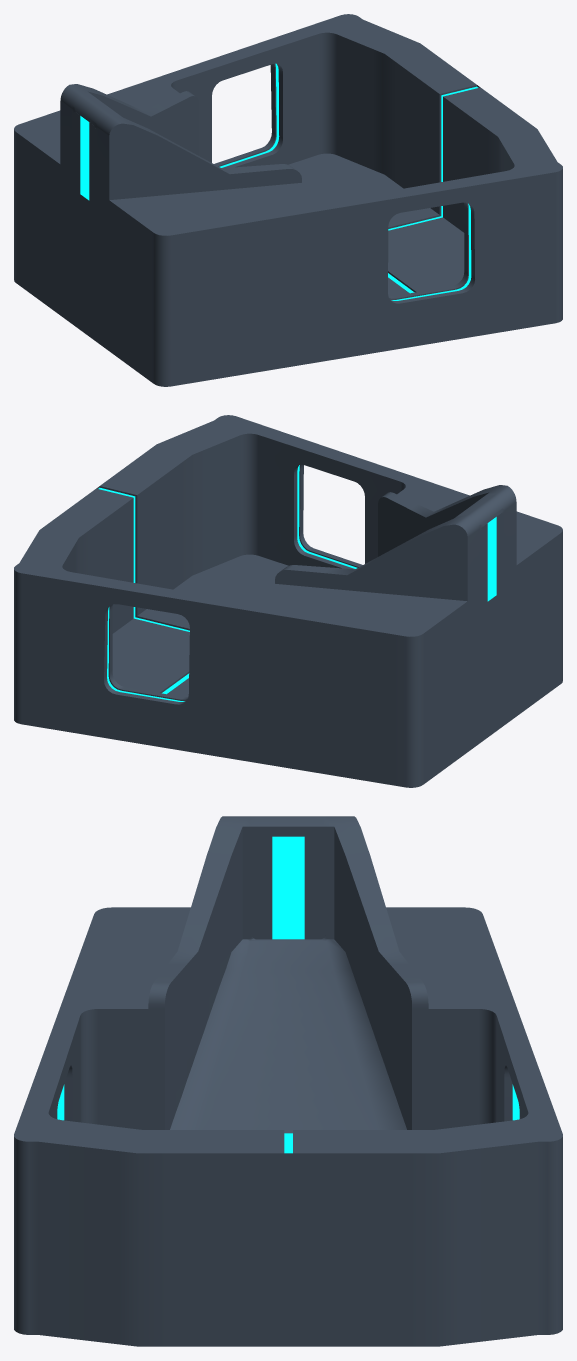
File: Nivel_2-Modulo9.fbx
3 renders of one model, top to bottom at view 1: azimuth 30°, elevation 25°; view 2: azimuth 150°, elevation 25°; view 3: azimuth 270°, elevation 25°, orthographic. The views are drawn at different scales.
Parts seen in each view (by area): view 1: polySurface47, polySurface48, polySurface35, polySurface34, polySurface36; view 2: polySurface47, polySurface48, polySurface34, polySurface35, polySurface37; view 3: polySurface47, polySurface35, polySurface34, polySurface36, polySurface37.
Part boxes in pixels (<box>): polySurface47: <box>14,14,562,386</box>; polySurface48: <box>219,63,478,300</box>; polySurface35: <box>74,112,80,193</box>; polySurface34: <box>89,122,95,204</box>; polySurface36: <box>84,119,89,200</box>; polySurface47: <box>14,415,562,787</box>; polySurface48: <box>98,465,357,701</box>; polySurface34: <box>496,513,502,594</box>; polySurface35: <box>481,523,487,605</box>; polySurface37: <box>487,520,492,601</box>; polySurface47: <box>14,816,562,1346</box>; polySurface35: <box>304,836,325,939</box>; polySurface34: <box>251,836,272,939</box>; polySurface36: <box>272,836,288,939</box>; polySurface37: <box>288,836,304,939</box>.
Size of the model in its own units: 27.3 by 15 by 25.74.
